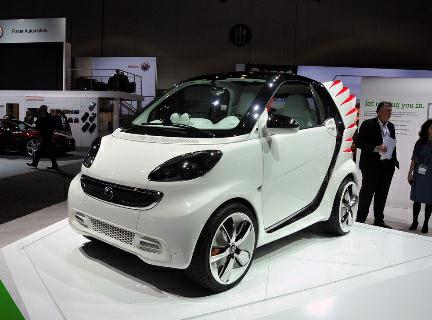smart-forjeremy: (70, 67, 356, 282)
